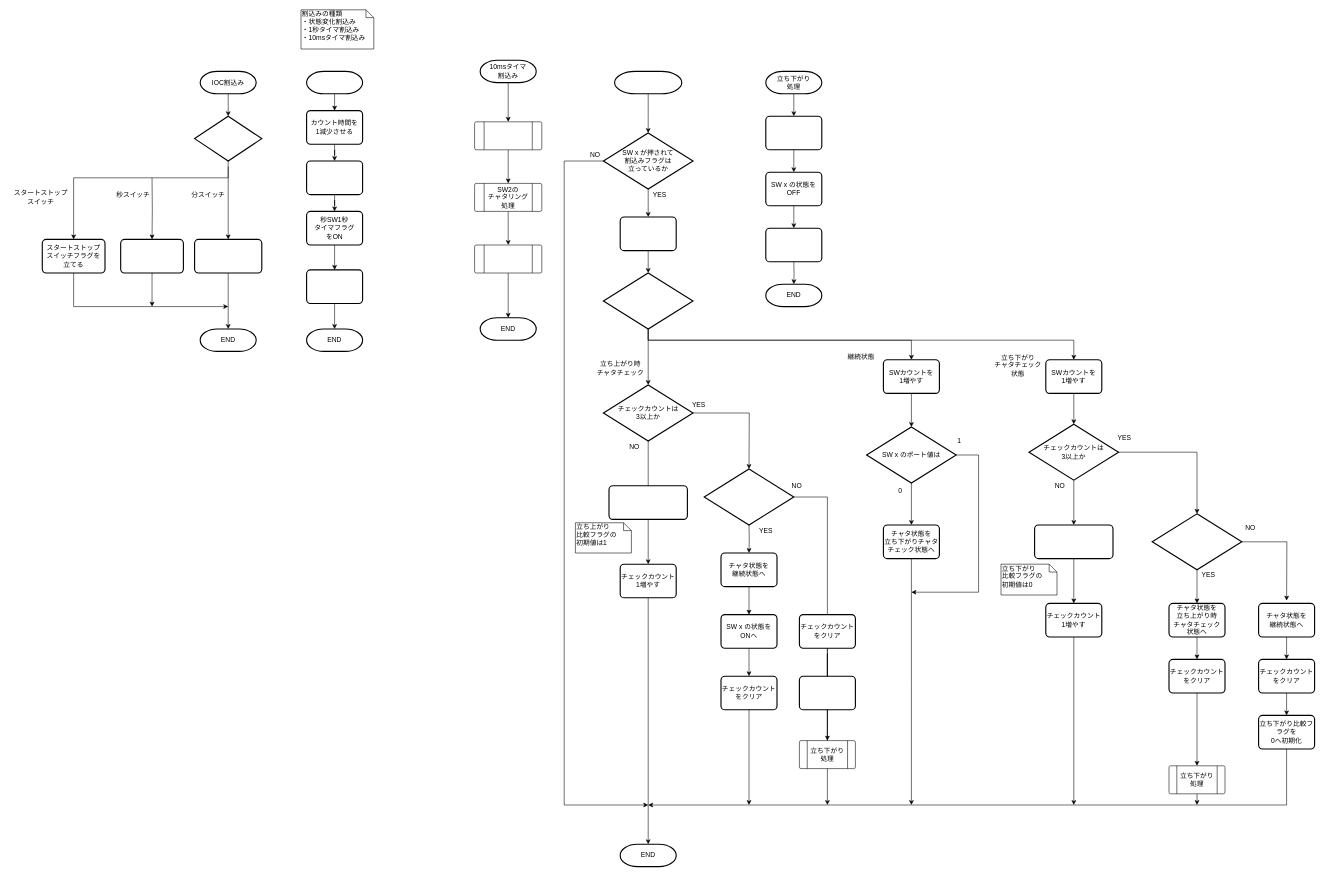
Image size: 1324x877. Some labels were removed from this diagram. Here are the shapes that lost their labels. From the top down, the centre of each, then its label:
[334,82]: 1秒タイマ割込み
[648,82]: チャタリング処理
[228,138]: スイッチの 種類 = ?
[508,135]: SW1の チャタリング 処理
[793,132]: SWカウントを クリア
[334,177]: 分SW1秒 タイマフラグ をON
[647,233]: SW x のポート値を読む
[793,244]: SW x の割り込みフラグをクリア
[152,256]: 秒スイッチフラグ を立てる
[228,256]: 分スイッチフラグ を立てる
[508,258]: SW3の チャタリング 処理
[334,286]: カウントダウン 終了カウント を1増加
[648,300]: チャタ状態は
[648,502]: SWのポートの値と 立ち上がり比較フラグを 論理積する
[748,496]: 立ち上がり 比較フラグの値は 1か
[1073,541]: SWのポートの値と 立ち下がり比較フラグを 論理和する
[1196,541]: 立ち下がり 比較フラグの値は 0か
[827,692]: 比較フラグを 1へ初期化
